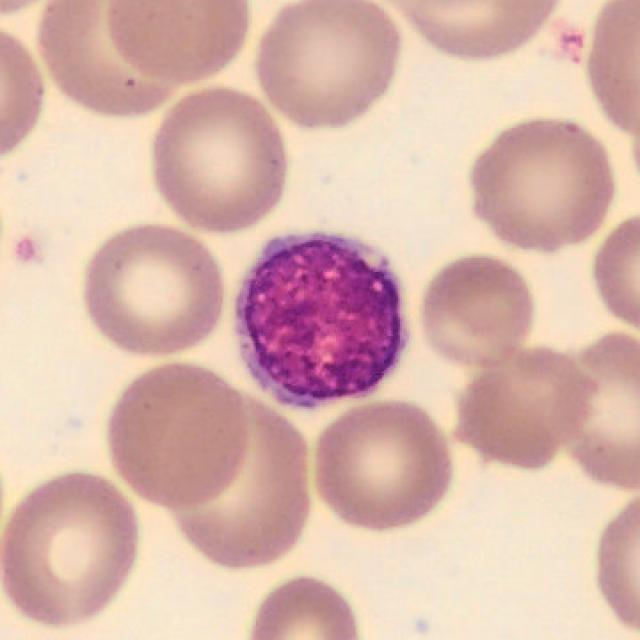Linfocito: (245, 240, 398, 398)
